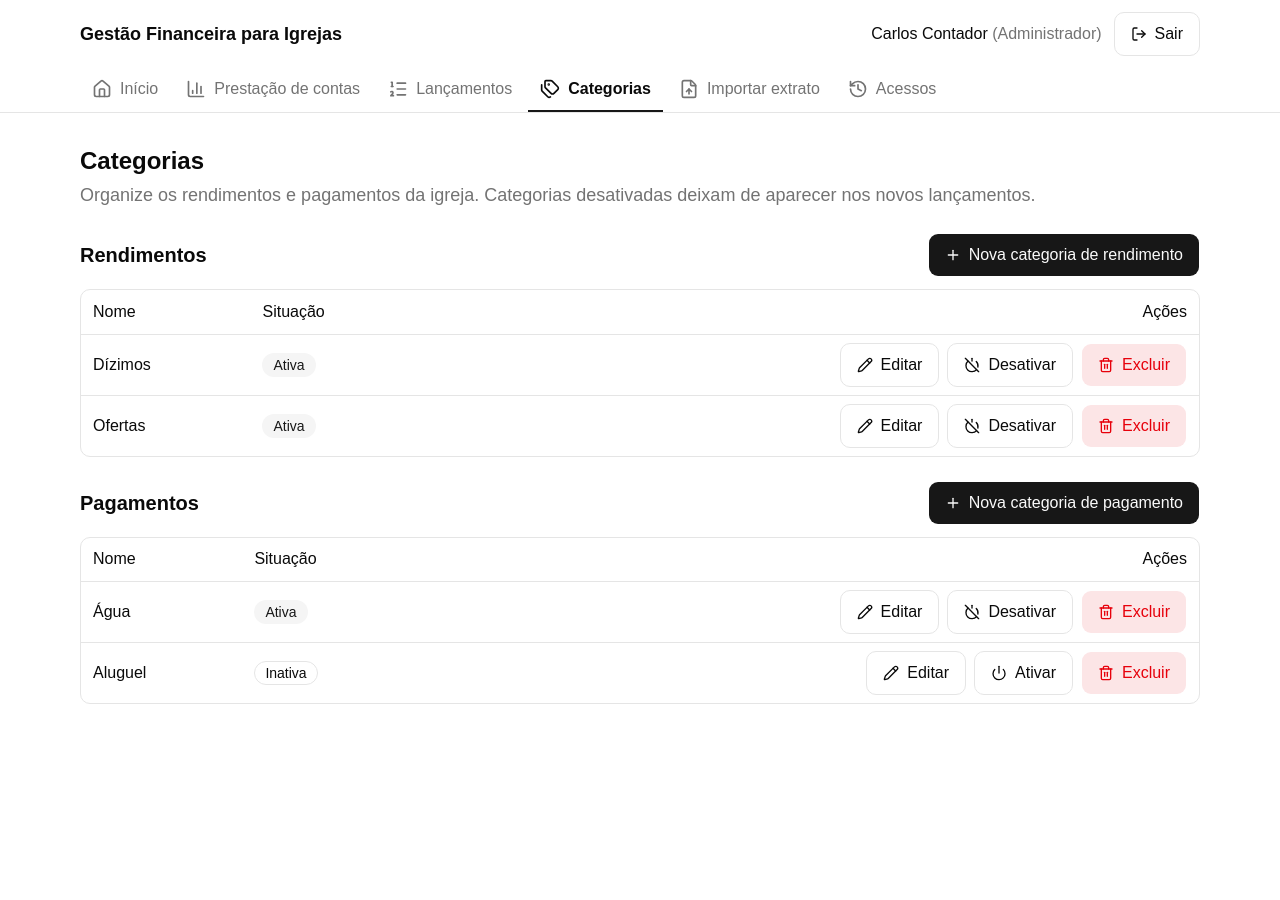
Test case: Página de categorias › cria uma categoria e avisa que deu certo
Click the button "Nova categoria de rendimento" at (1064, 255), box [928,233,1200,277]
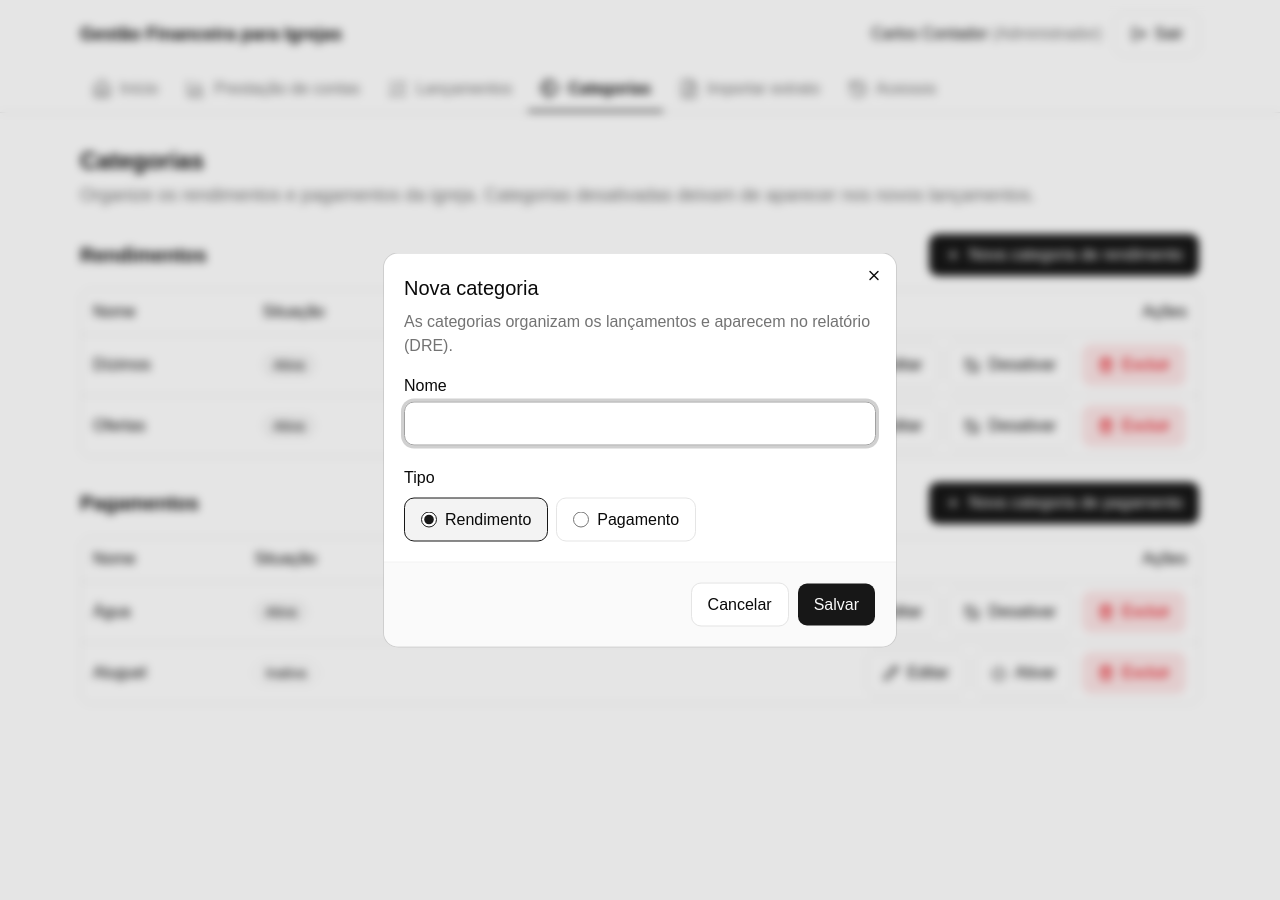
Type "Cantina" into the field labelled "Nome" at (640, 424), box [404,402,876,446]
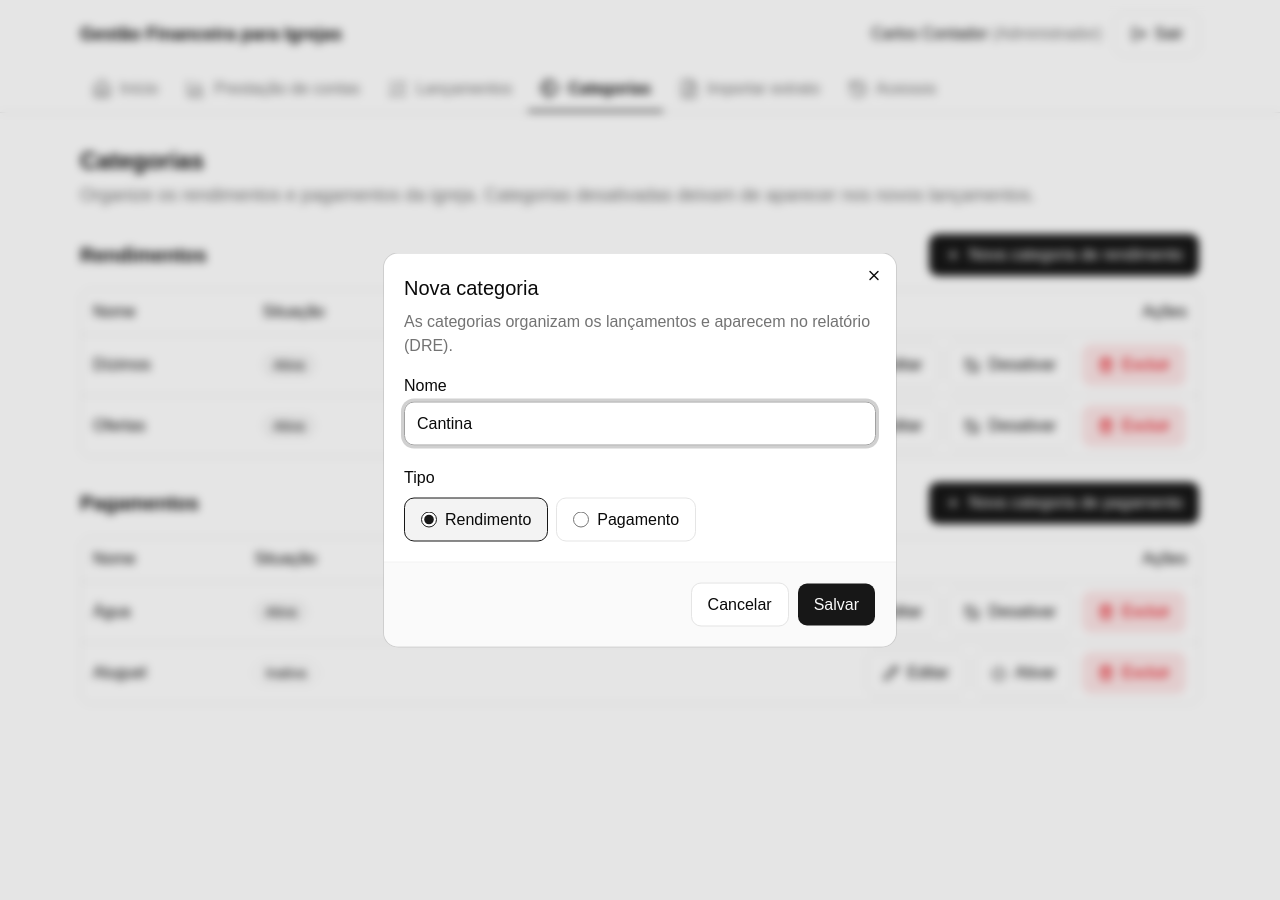
Click the button "Salvar" at (836, 604), box [797,582,876,626]
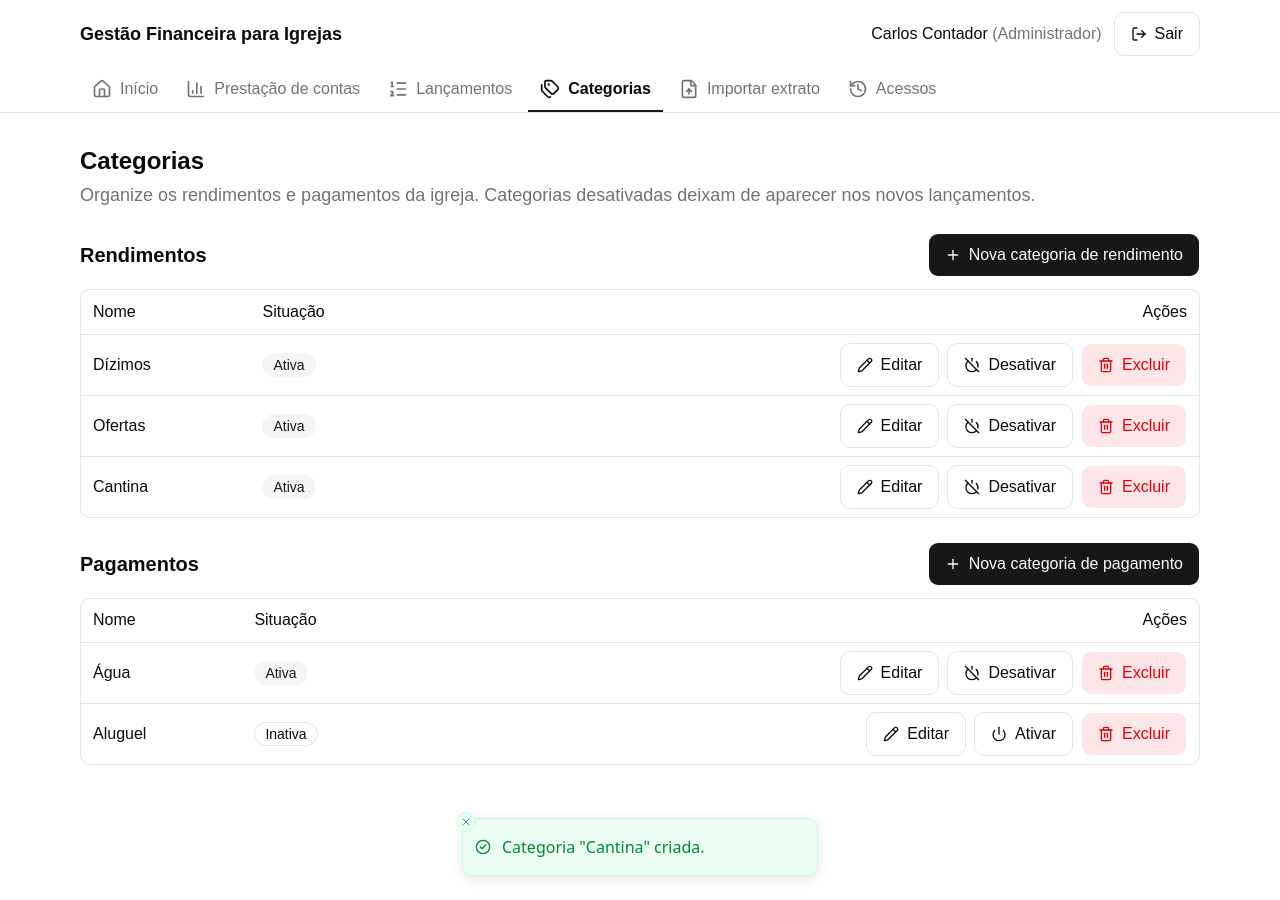
Now the text "Categoria \"Cantina\" criada." is shown, box [502,835,705,859]
Now the text "Cantina" is shown, box [81,456,250,516]
